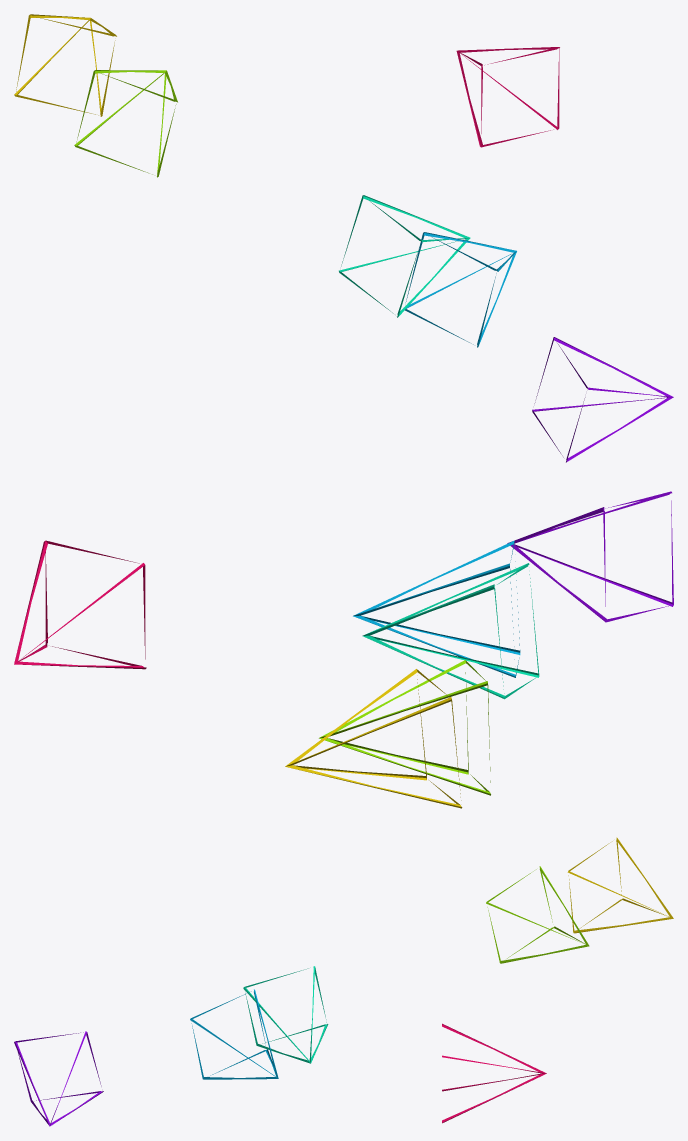
The model's file is glb_file.glb.
The picture shows the model from 3 angles, top to bottom: view 1: azimuth 30°, elevation 25°; view 2: azimuth 150°, elevation 25°; view 3: azimuth 270°, elevation 25°; orthographic projection. The views are drawn at different scales.
Visible parts, largest first — view 1: geometry_6, geometry_1, geometry_4, geometry_5, geometry_3, geometry_2; view 2: geometry_2, geometry_4, geometry_3, geometry_6, geometry_5, geometry_1; view 3: geometry_2, geometry_3, geometry_4, geometry_5, geometry_6, geometry_1.
Part boxes in pixels (box(x1,y1,x2,y2)): geometry_6: box(532, 337, 673, 462); geometry_1: box(456, 47, 559, 147); geometry_4: box(339, 195, 470, 317); geometry_5: box(405, 232, 516, 347); geometry_3: box(74, 70, 177, 177); geometry_2: box(14, 14, 116, 116); geometry_2: box(285, 669, 462, 808); geometry_4: box(362, 563, 539, 699); geometry_3: box(319, 660, 490, 795); geometry_6: box(507, 491, 673, 622); geometry_5: box(353, 541, 520, 677); geometry_1: box(14, 540, 146, 669); geometry_2: box(567, 837, 673, 933); geometry_3: box(486, 866, 589, 963); geometry_4: box(243, 966, 328, 1063); geometry_5: box(190, 989, 278, 1079); geometry_6: box(14, 1031, 103, 1126); geometry_1: box(442, 1023, 546, 1123).
Size of the model in its own units: 0.5812 by 0.2966 by 0.9221.
